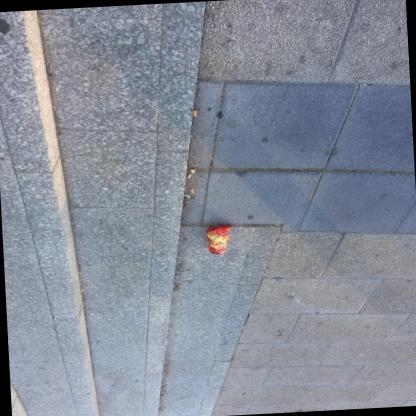Paper: (189, 187, 193, 192), (192, 109, 195, 115), (186, 172, 190, 176), (92, 340, 97, 342), (79, 287, 82, 290), (162, 385, 166, 387), (307, 390, 310, 392), (160, 390, 162, 392)
Plastic: (204, 224, 231, 255)
